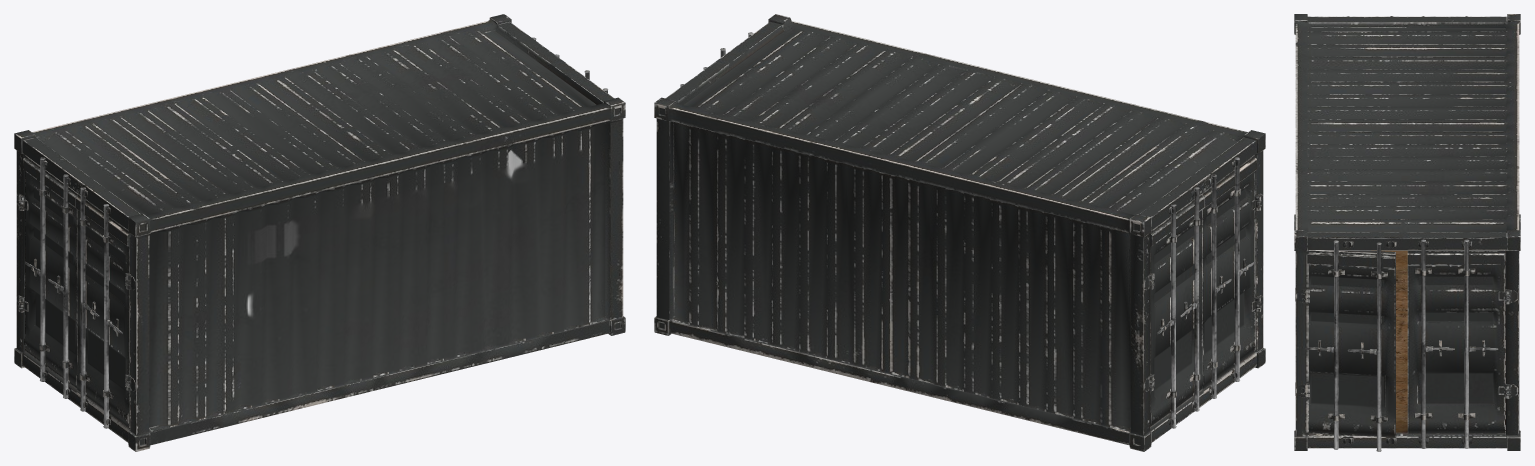
File: shipping_container_sebastianwebster_1k.glb
3 views of the same model, side by side, from view 1: azimuth 30°, elevation 25°; view 2: azimuth 150°, elevation 25°; view 3: azimuth 270°, elevation 25° (orthographic). The views are drawn at different scales.
Parts seen in each view (by area): view 1: CamsAndKeepers_low; view 2: CamsAndKeepers_low; view 3: CamsAndKeepers_low.
Part boxes in pixels (box(x1,y1,x2,y2)): CamsAndKeepers_low: box(14, 14, 625, 451); CamsAndKeepers_low: box(654, 14, 1265, 451); CamsAndKeepers_low: box(1294, 14, 1520, 451).
Size of the model in its own units: 5.36 by 2.34 by 2.24.
1 material, 1 textured.
